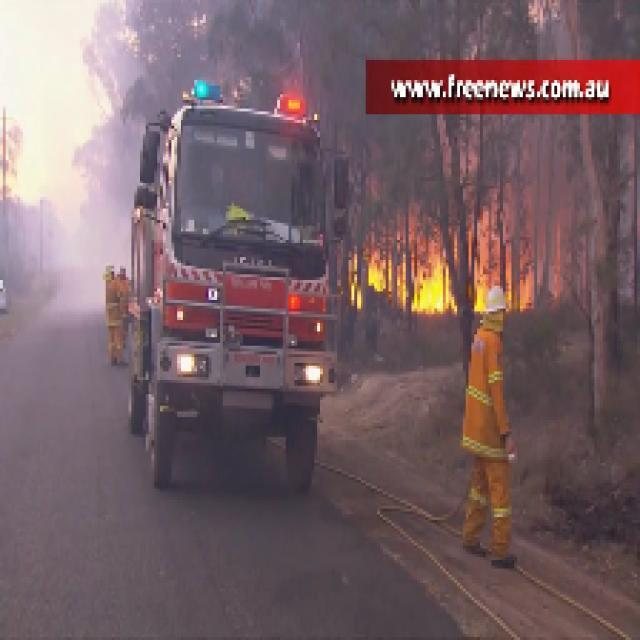Fire: (412, 257, 452, 312)
Smoke: (12, 12, 132, 268)
